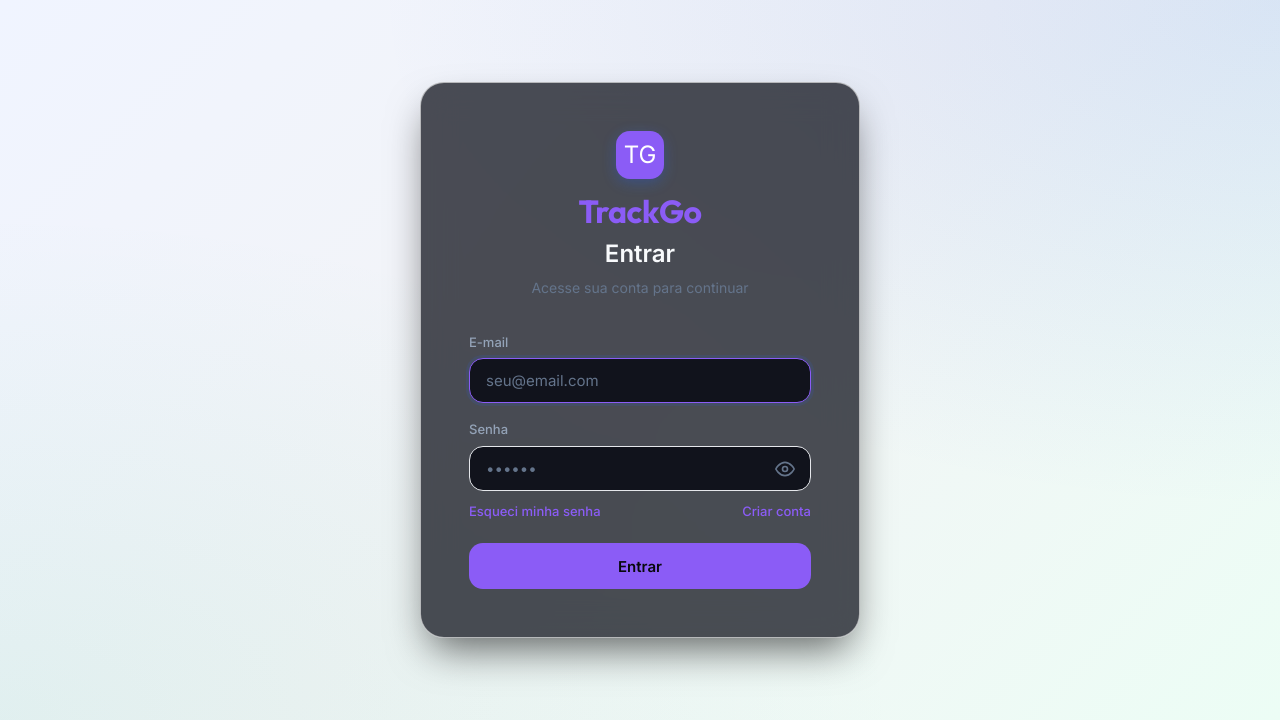
Test: TrackGo - Fluxos Operacionais E2E (Login e Rotas) › Deve logar o usuário com sucesso e apresentar Painel Operacional
This screenshot has width=1280, height=720.
Type "admin@trackgo.com" into the field labelled "E-mail" at (640, 381), box [469,358,811,403]
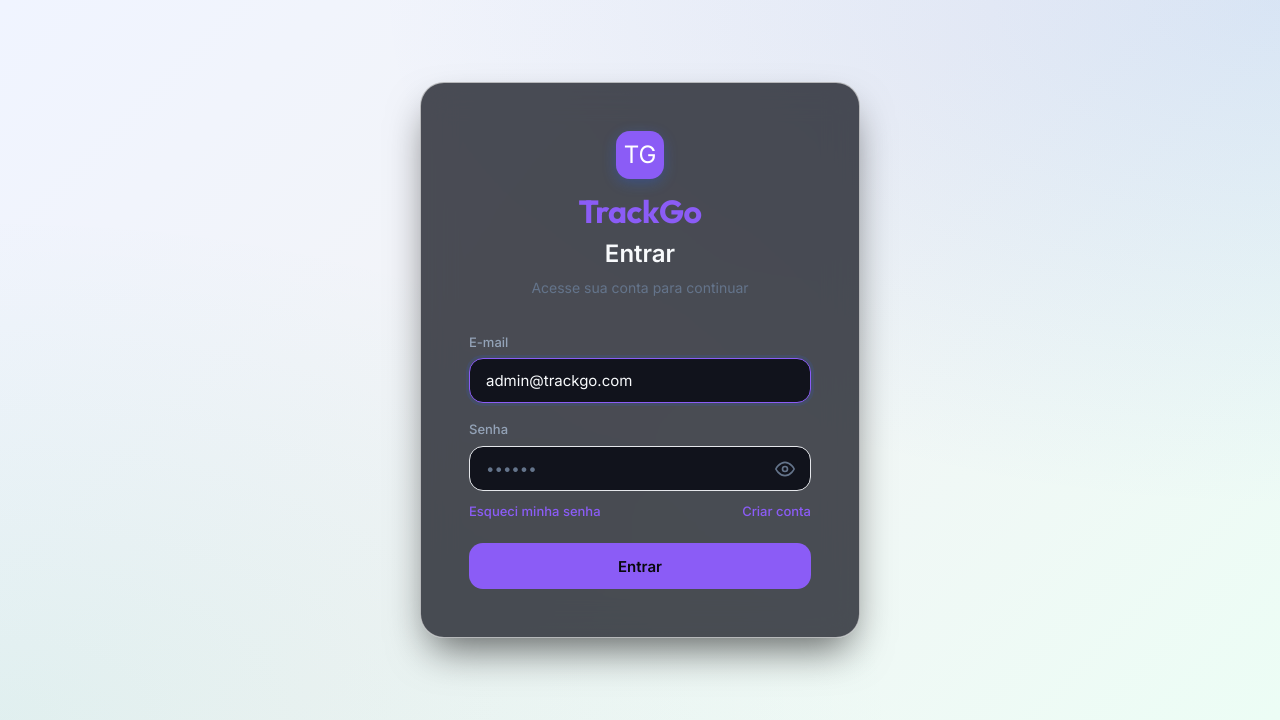
Type "123456" into the password field labelled "Senha" at (640, 469), box [469,446,811,491]
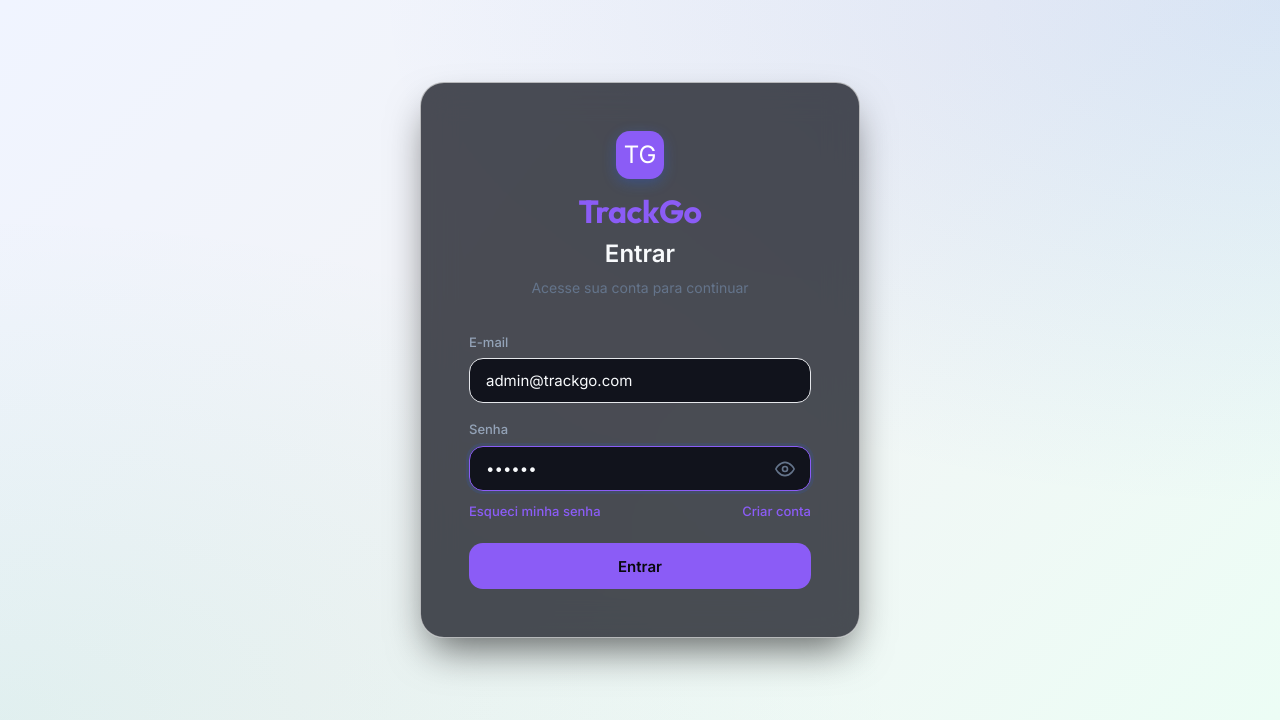
Click the submit button at (640, 566), box [469,543,811,589]
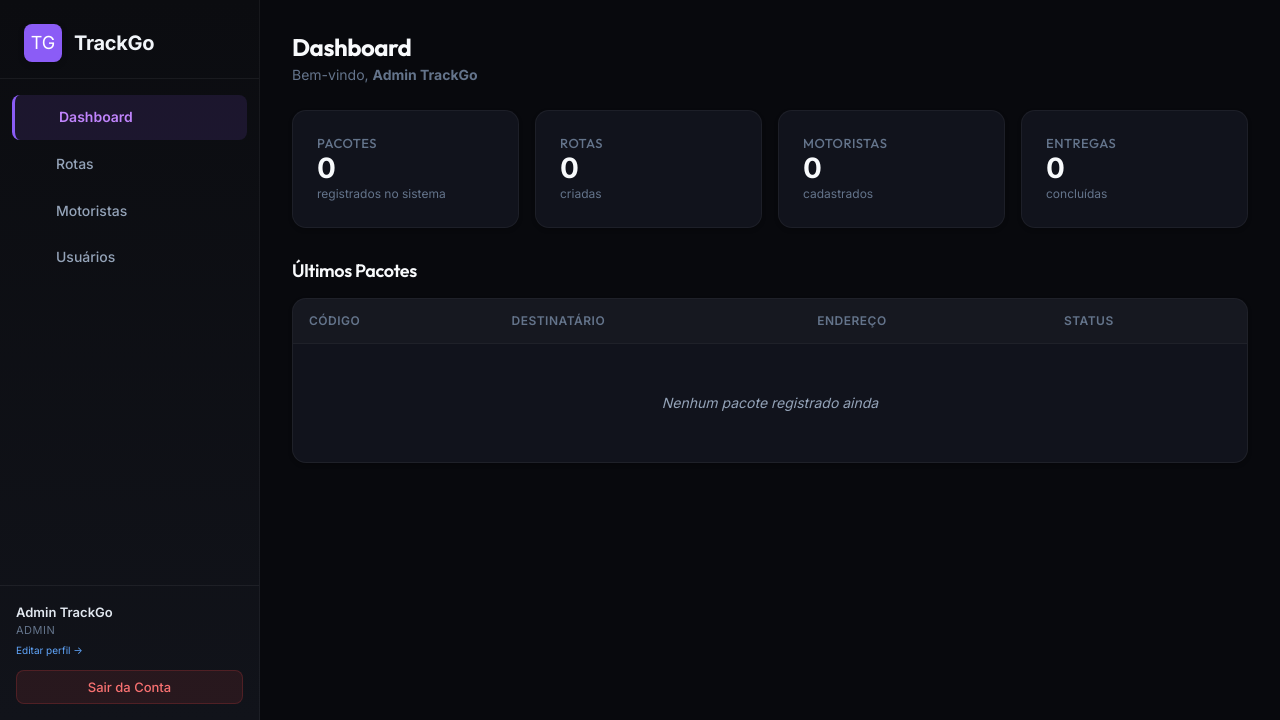
expect the link "Dashboard" is shown: met, box [12,95,247,140]
